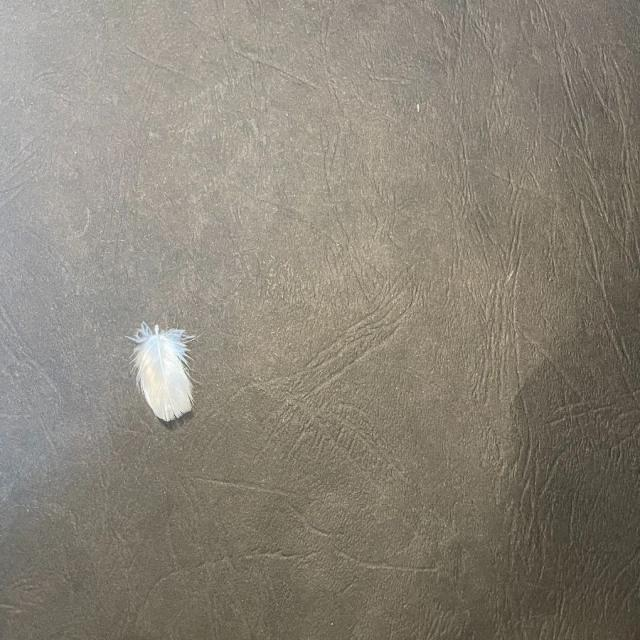feather: (125, 322, 198, 420)
